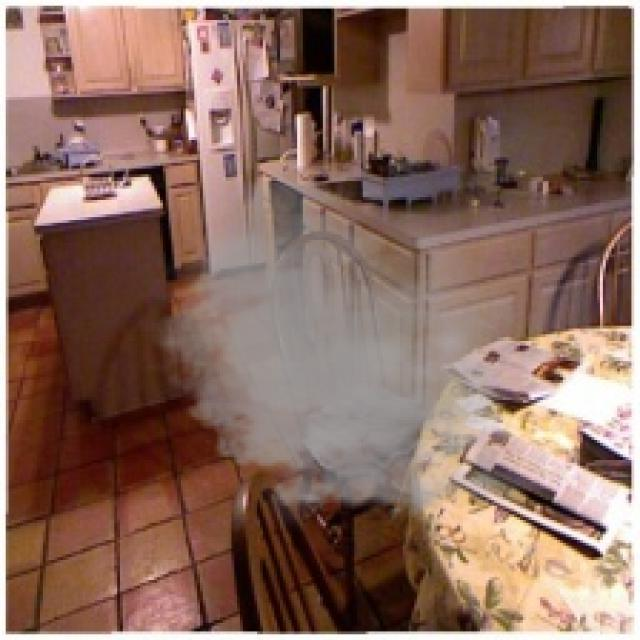Smoke: (140, 166, 540, 534)
